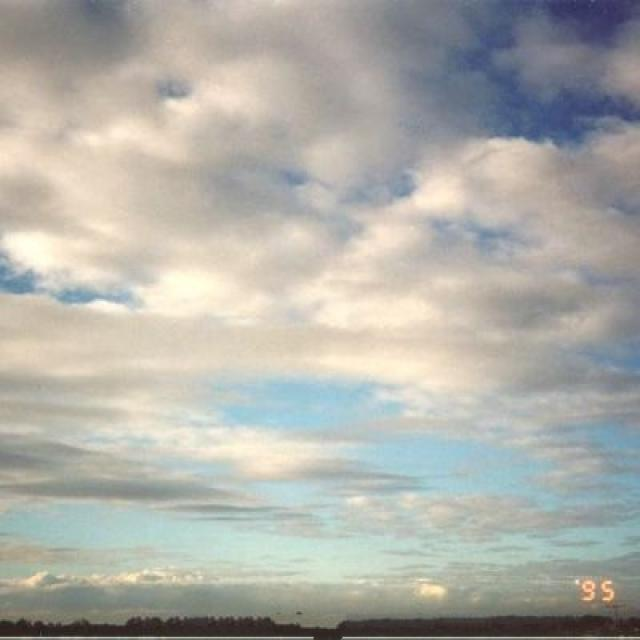Sc: (1, 1, 630, 529)
